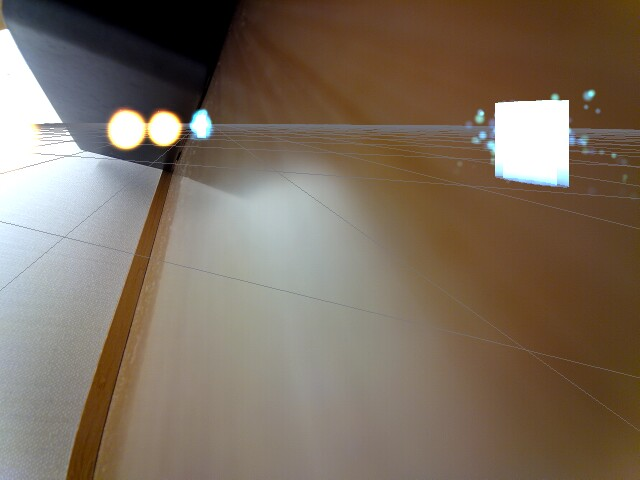firebig: (102, 104, 145, 155)
